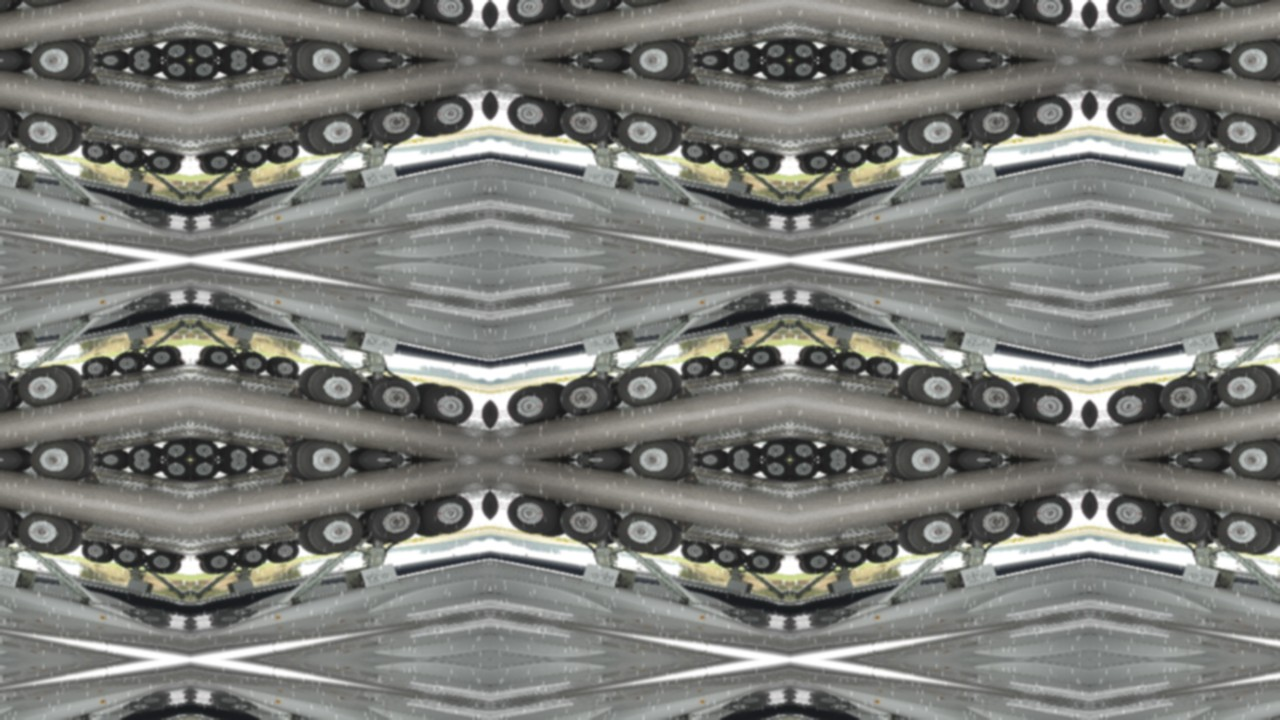chock: (82, 34, 105, 50), (275, 34, 298, 50), (682, 34, 705, 50), (875, 34, 898, 50), (74, 120, 97, 136), (82, 70, 105, 86), (283, 120, 306, 136), (275, 70, 298, 86), (674, 120, 697, 136), (682, 70, 705, 86), (883, 120, 906, 136), (875, 70, 898, 86), (74, 384, 97, 400), (82, 434, 105, 450), (283, 384, 306, 400), (275, 434, 298, 450), (674, 384, 697, 400), (682, 434, 705, 450), (883, 384, 906, 400), (875, 434, 898, 450), (74, 520, 97, 536), (82, 470, 105, 486), (283, 520, 306, 536), (275, 470, 298, 486), (674, 520, 697, 536), (682, 470, 705, 486), (883, 520, 906, 536), (875, 470, 898, 486), (172, 154, 187, 164), (193, 154, 208, 164), (772, 154, 787, 164), (793, 154, 808, 164), (172, 356, 187, 366), (193, 356, 208, 366), (772, 356, 787, 366), (793, 356, 808, 366), (172, 554, 187, 564), (193, 554, 208, 564), (772, 554, 787, 564), (793, 554, 808, 564), (1274, 120, 1280, 136), (1274, 384, 1280, 400), (1274, 520, 1280, 536), (79, 139, 89, 147), (291, 139, 301, 147), (679, 139, 689, 147), (891, 139, 901, 147), (79, 373, 89, 381), (291, 373, 301, 381), (679, 373, 689, 381), (891, 373, 901, 381), (79, 539, 89, 547), (291, 539, 301, 547), (679, 539, 689, 547), (891, 539, 901, 547), (92, 52, 101, 60), (279, 52, 288, 60), (692, 52, 701, 60), (879, 52, 888, 60), (92, 60, 101, 68), (279, 60, 288, 68), (692, 60, 701, 68), (879, 60, 888, 68), (92, 452, 101, 460), (279, 452, 288, 460), (692, 452, 701, 460), (879, 452, 888, 460), (92, 460, 101, 468), (279, 460, 288, 468), (692, 460, 701, 468), (879, 460, 888, 468), (185, 36, 190, 46), (190, 36, 195, 46), (785, 36, 790, 46), (790, 36, 795, 46), (185, 74, 190, 84), (190, 74, 195, 84), (785, 74, 790, 84), (790, 74, 795, 84), (185, 436, 190, 446), (190, 436, 195, 446), (785, 436, 790, 446), (790, 436, 795, 446), (185, 474, 190, 484), (190, 474, 195, 484), (785, 474, 790, 484), (790, 474, 795, 484), (1279, 139, 1280, 147), (1279, 373, 1280, 381), (1279, 539, 1280, 547)
wheel: (14, 110, 76, 158), (304, 110, 366, 158), (614, 110, 676, 158), (904, 110, 966, 158), (1214, 110, 1276, 158), (14, 362, 76, 410), (304, 362, 366, 410), (614, 362, 676, 410), (904, 362, 966, 410), (1214, 362, 1276, 410), (14, 510, 76, 558), (304, 510, 366, 558), (614, 510, 676, 558), (904, 510, 966, 558), (1214, 510, 1276, 558), (364, 100, 423, 147), (557, 100, 616, 147), (964, 100, 1023, 147), (1157, 100, 1216, 147), (364, 373, 423, 420), (557, 373, 616, 420), (964, 373, 1023, 420), (1157, 373, 1216, 420), (364, 500, 423, 547), (557, 500, 616, 547), (964, 500, 1023, 547), (1157, 500, 1216, 547), (421, 92, 476, 138), (504, 92, 559, 138), (1021, 92, 1076, 138), (1104, 92, 1159, 138), (421, 382, 476, 428), (504, 382, 559, 428), (1021, 382, 1076, 428), (1104, 382, 1159, 428), (421, 492, 476, 538), (504, 492, 559, 538), (1021, 492, 1076, 538), (1104, 492, 1159, 538), (421, 0, 476, 28), (504, 0, 559, 28), (1021, 0, 1076, 28), (1104, 0, 1159, 28), (25, 36, 88, 60), (292, 36, 355, 60), (625, 36, 688, 60), (892, 36, 955, 60), (25, 60, 88, 84), (292, 60, 355, 84), (625, 60, 688, 84), (892, 60, 955, 84), (25, 436, 88, 460), (292, 436, 355, 460), (625, 436, 688, 460), (892, 436, 955, 460), (25, 460, 88, 484), (292, 460, 355, 484), (625, 460, 688, 484), (892, 460, 955, 484), (1225, 36, 1280, 60), (1225, 60, 1280, 84), (1225, 436, 1280, 460), (1225, 460, 1280, 484), (364, 0, 423, 20), (557, 0, 616, 20), (964, 0, 1023, 20), (1157, 0, 1216, 20), (144, 149, 179, 176), (201, 149, 236, 176), (744, 149, 779, 176), (801, 149, 836, 176), (144, 344, 179, 371), (201, 344, 236, 371), (744, 344, 779, 371), (801, 344, 836, 371), (144, 549, 179, 576), (201, 549, 236, 576), (744, 549, 779, 576), (801, 549, 836, 576), (352, 45, 412, 60), (568, 45, 628, 60), (952, 45, 1012, 60), (1168, 45, 1228, 60), (352, 60, 412, 75), (568, 60, 628, 75), (952, 60, 1012, 75), (1168, 60, 1228, 75), (352, 445, 412, 460), (568, 445, 628, 460), (952, 445, 1012, 460), (1168, 445, 1228, 460), (352, 460, 412, 475), (568, 460, 628, 475), (952, 460, 1012, 475), (1168, 460, 1228, 475), (111, 144, 145, 170), (235, 144, 269, 170), (711, 144, 745, 170), (835, 144, 869, 170), (111, 350, 145, 376), (235, 350, 269, 376), (711, 350, 745, 376), (835, 350, 869, 376), (111, 544, 145, 570), (235, 544, 269, 570), (711, 544, 745, 570), (835, 544, 869, 570), (80, 140, 113, 166), (267, 140, 300, 166), (680, 140, 713, 166), (867, 140, 900, 166), (80, 354, 113, 380), (267, 354, 300, 380), (680, 354, 713, 380), (867, 354, 900, 380), (80, 540, 113, 566), (267, 540, 300, 566), (680, 540, 713, 566), (867, 540, 900, 566), (0, 100, 16, 147), (0, 373, 16, 420), (0, 500, 16, 547), (159, 38, 190, 60), (190, 38, 221, 60), (759, 38, 790, 60), (790, 38, 821, 60), (159, 60, 190, 82), (190, 60, 221, 82), (759, 60, 790, 82), (790, 60, 821, 82), (159, 438, 190, 460), (190, 438, 221, 460), (759, 438, 790, 460), (790, 438, 821, 460), (159, 460, 190, 482), (190, 460, 221, 482), (759, 460, 790, 482), (790, 460, 821, 482), (14, 0, 76, 10), (304, 0, 366, 10), (614, 0, 676, 10), (904, 0, 966, 10), (1214, 0, 1276, 10), (126, 43, 160, 60), (220, 43, 254, 60), (726, 43, 760, 60), (820, 43, 854, 60), (126, 60, 160, 77), (220, 60, 254, 77), (726, 60, 760, 77), (820, 60, 854, 77), (126, 443, 160, 460), (220, 443, 254, 460), (726, 443, 760, 460), (820, 443, 854, 460), (126, 460, 160, 477), (220, 460, 254, 477), (726, 460, 760, 477), (820, 460, 854, 477), (0, 45, 28, 60), (0, 60, 28, 75), (0, 445, 28, 460), (0, 460, 28, 475), (95, 49, 128, 60), (252, 49, 285, 60), (695, 49, 728, 60), (852, 49, 885, 60), (95, 60, 128, 71), (252, 60, 285, 71), (695, 60, 728, 71), (852, 60, 885, 71), (95, 449, 128, 460), (252, 449, 285, 460), (695, 449, 728, 460), (852, 449, 885, 460), (95, 460, 128, 471), (252, 460, 285, 471), (695, 460, 728, 471), (852, 460, 885, 471), (0, 0, 16, 20)
